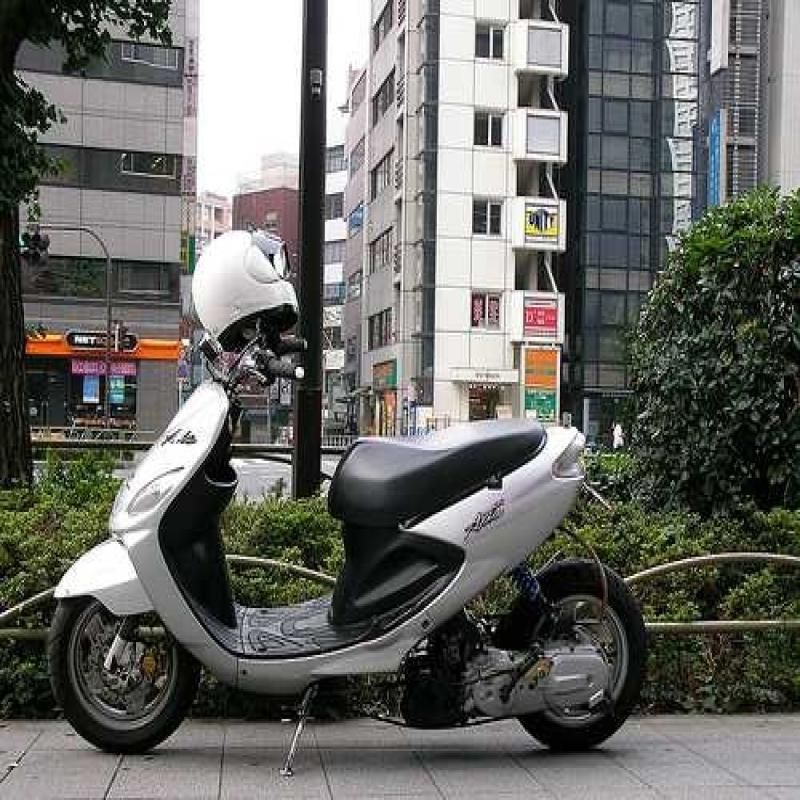bike: (32, 328, 644, 748)
